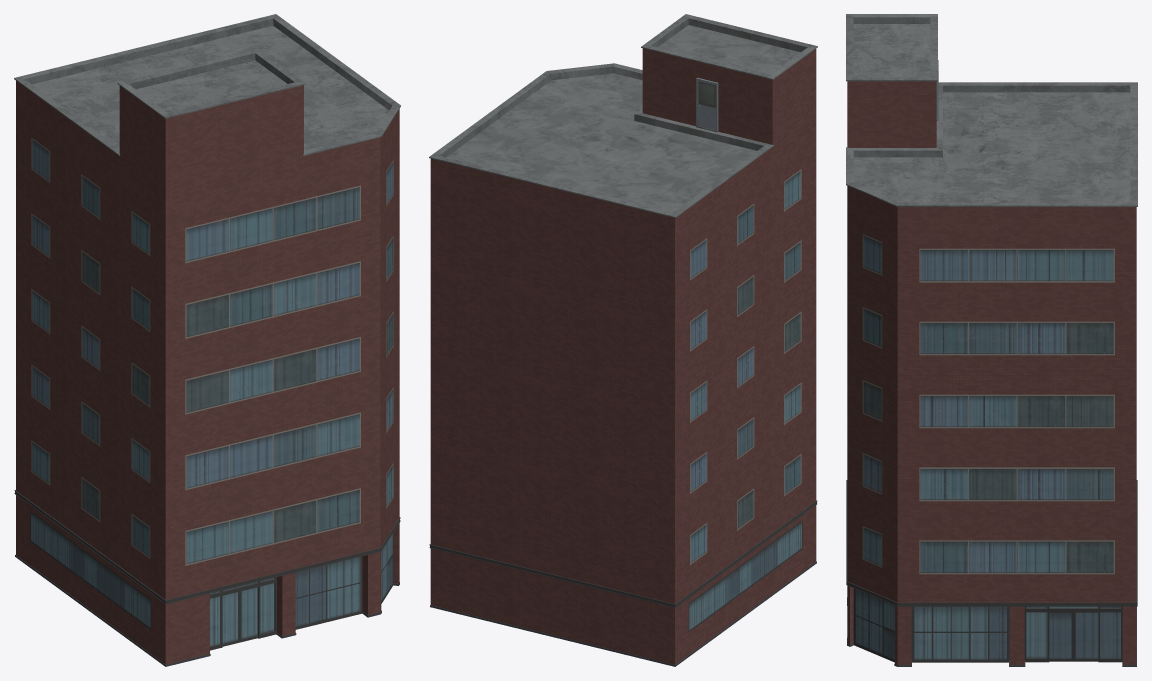
File: jctBld12_B_low.fbx
3 renders of one model, left to right at view 1: azimuth 30°, elevation 25°; view 2: azimuth 150°, elevation 25°; view 3: azimuth 270°, elevation 25°, orthographic. The views are drawn at different scales.
Visible parts, largest first — view 1: jctBld12_B_low; view 2: jctBld12_B_low; view 3: jctBld12_B_low.
Part boxes in pixels (box(x1,y1,x2,y2)): jctBld12_B_low: box(14, 14, 400, 666); jctBld12_B_low: box(429, 14, 817, 666); jctBld12_B_low: box(846, 14, 1137, 666).
Size of the model in its own units: 1160 by 2325 by 1160.
